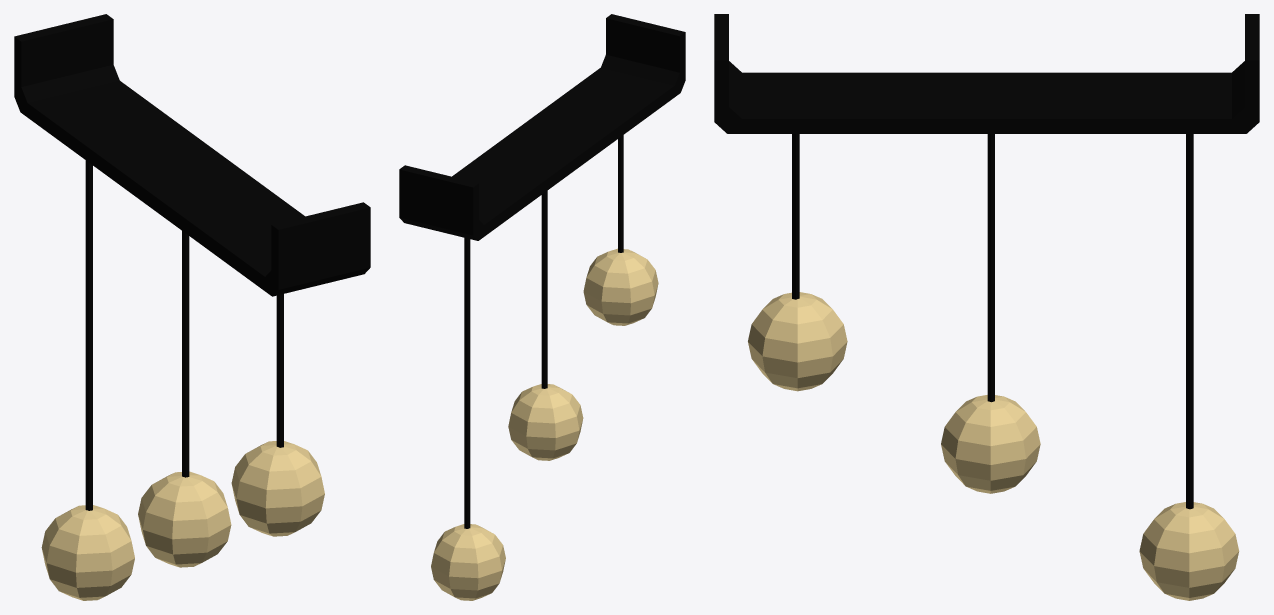
Rendered from MOD_light_2.fbx.
The picture shows the model from 3 angles, left to right: view 1: azimuth 30°, elevation 25°; view 2: azimuth 150°, elevation 25°; view 3: azimuth 270°, elevation 25°; orthographic projection. The views are drawn at different scales.
Visible parts, largest first — view 1: light_2; view 2: light_2; view 3: light_2.
Boxes of the visible parts, <box> form: light_2: <box>14,14,370,600</box>; light_2: <box>399,14,685,600</box>; light_2: <box>714,14,1259,600</box>.
Size of the model in its own units: 0.4768 by 2.64 by 2.32.
